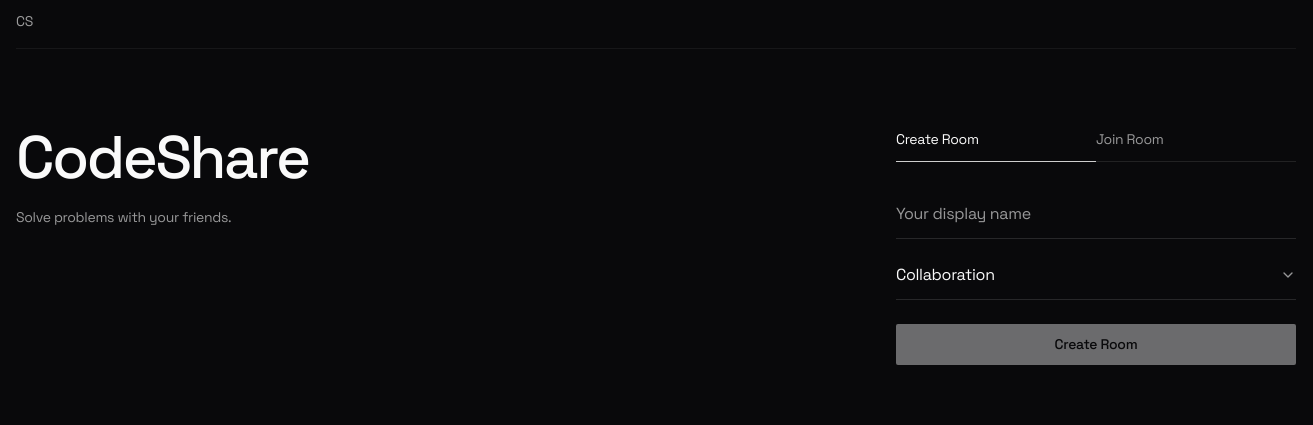
Test: Join tab - join flow › shows error when room is full
Click the tab with test id "tab-join" at {"x": 1196, "y": 146}, box top-left (1096, 129), bottom-right (1296, 162)
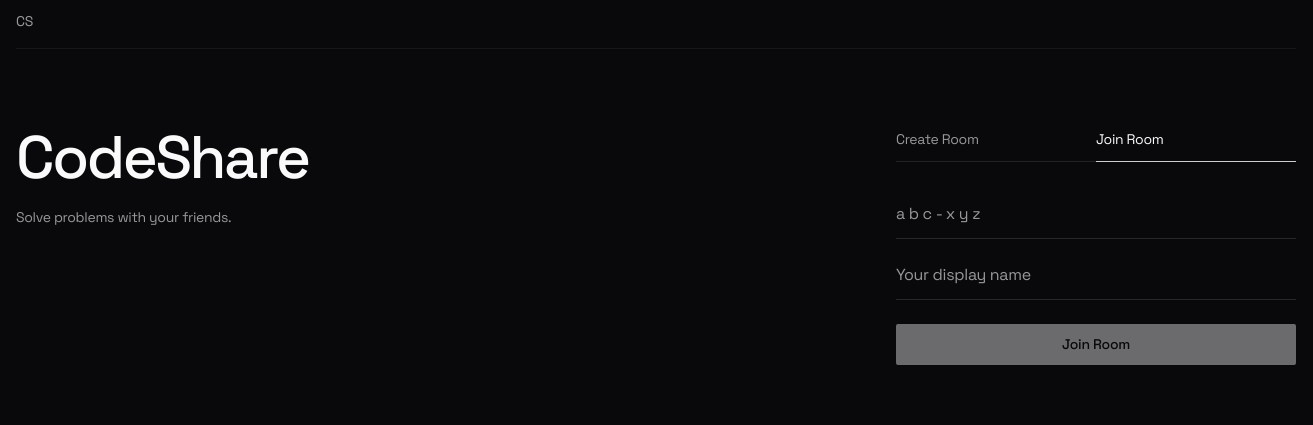
Type "abcxyz" into the field with test id "room-code-input" at {"x": 1096, "y": 220}, box top-left (896, 202), bottom-right (1296, 239)
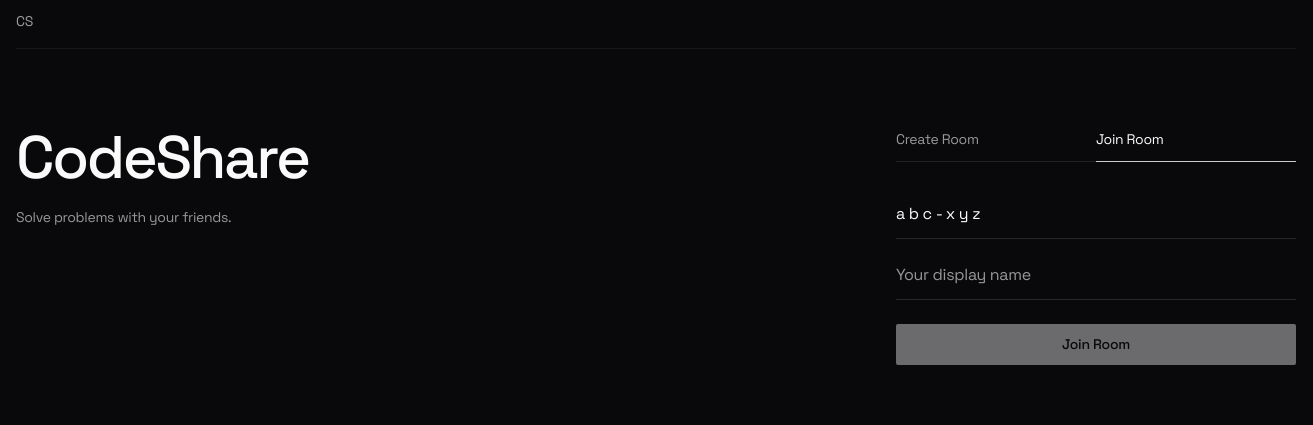
Type "Alice" into the field with placeholder "Your display name" at {"x": 1096, "y": 282}, box top-left (896, 263), bottom-right (1296, 300)
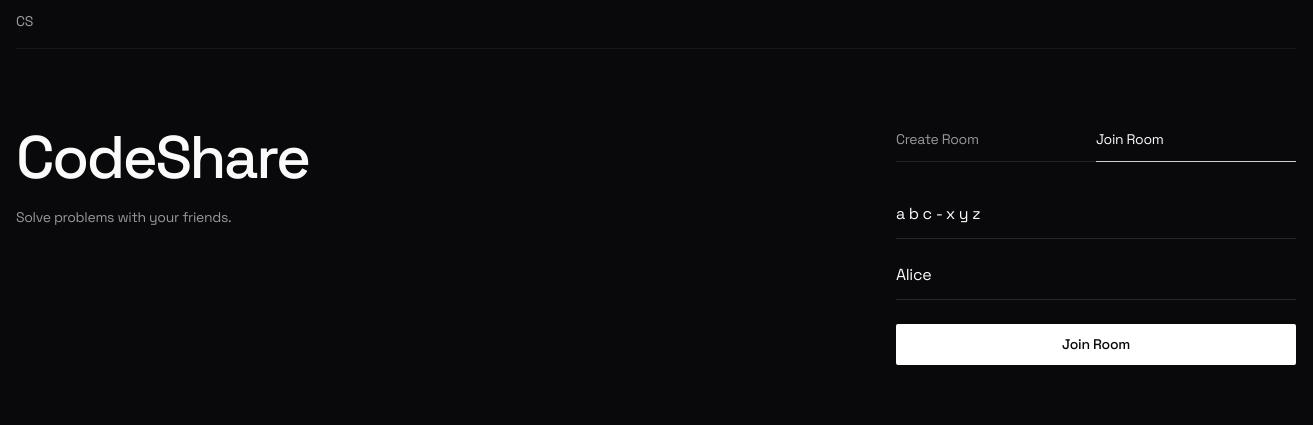
Click the button with test id "join-room-button" at {"x": 1096, "y": 344}, box top-left (896, 324), bottom-right (1296, 365)
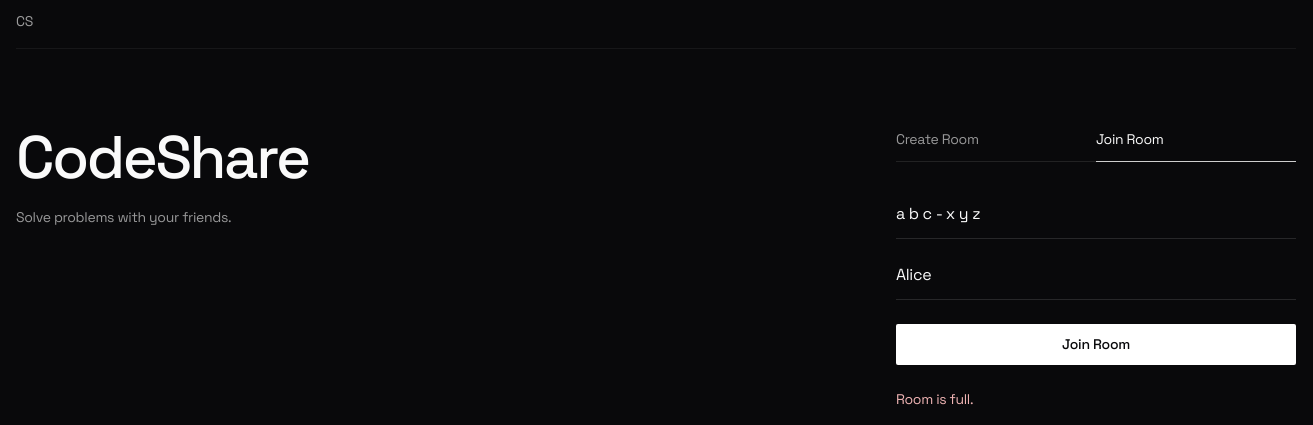
Now the text "Room is full." is shown, box top-left (896, 390), bottom-right (973, 408)
